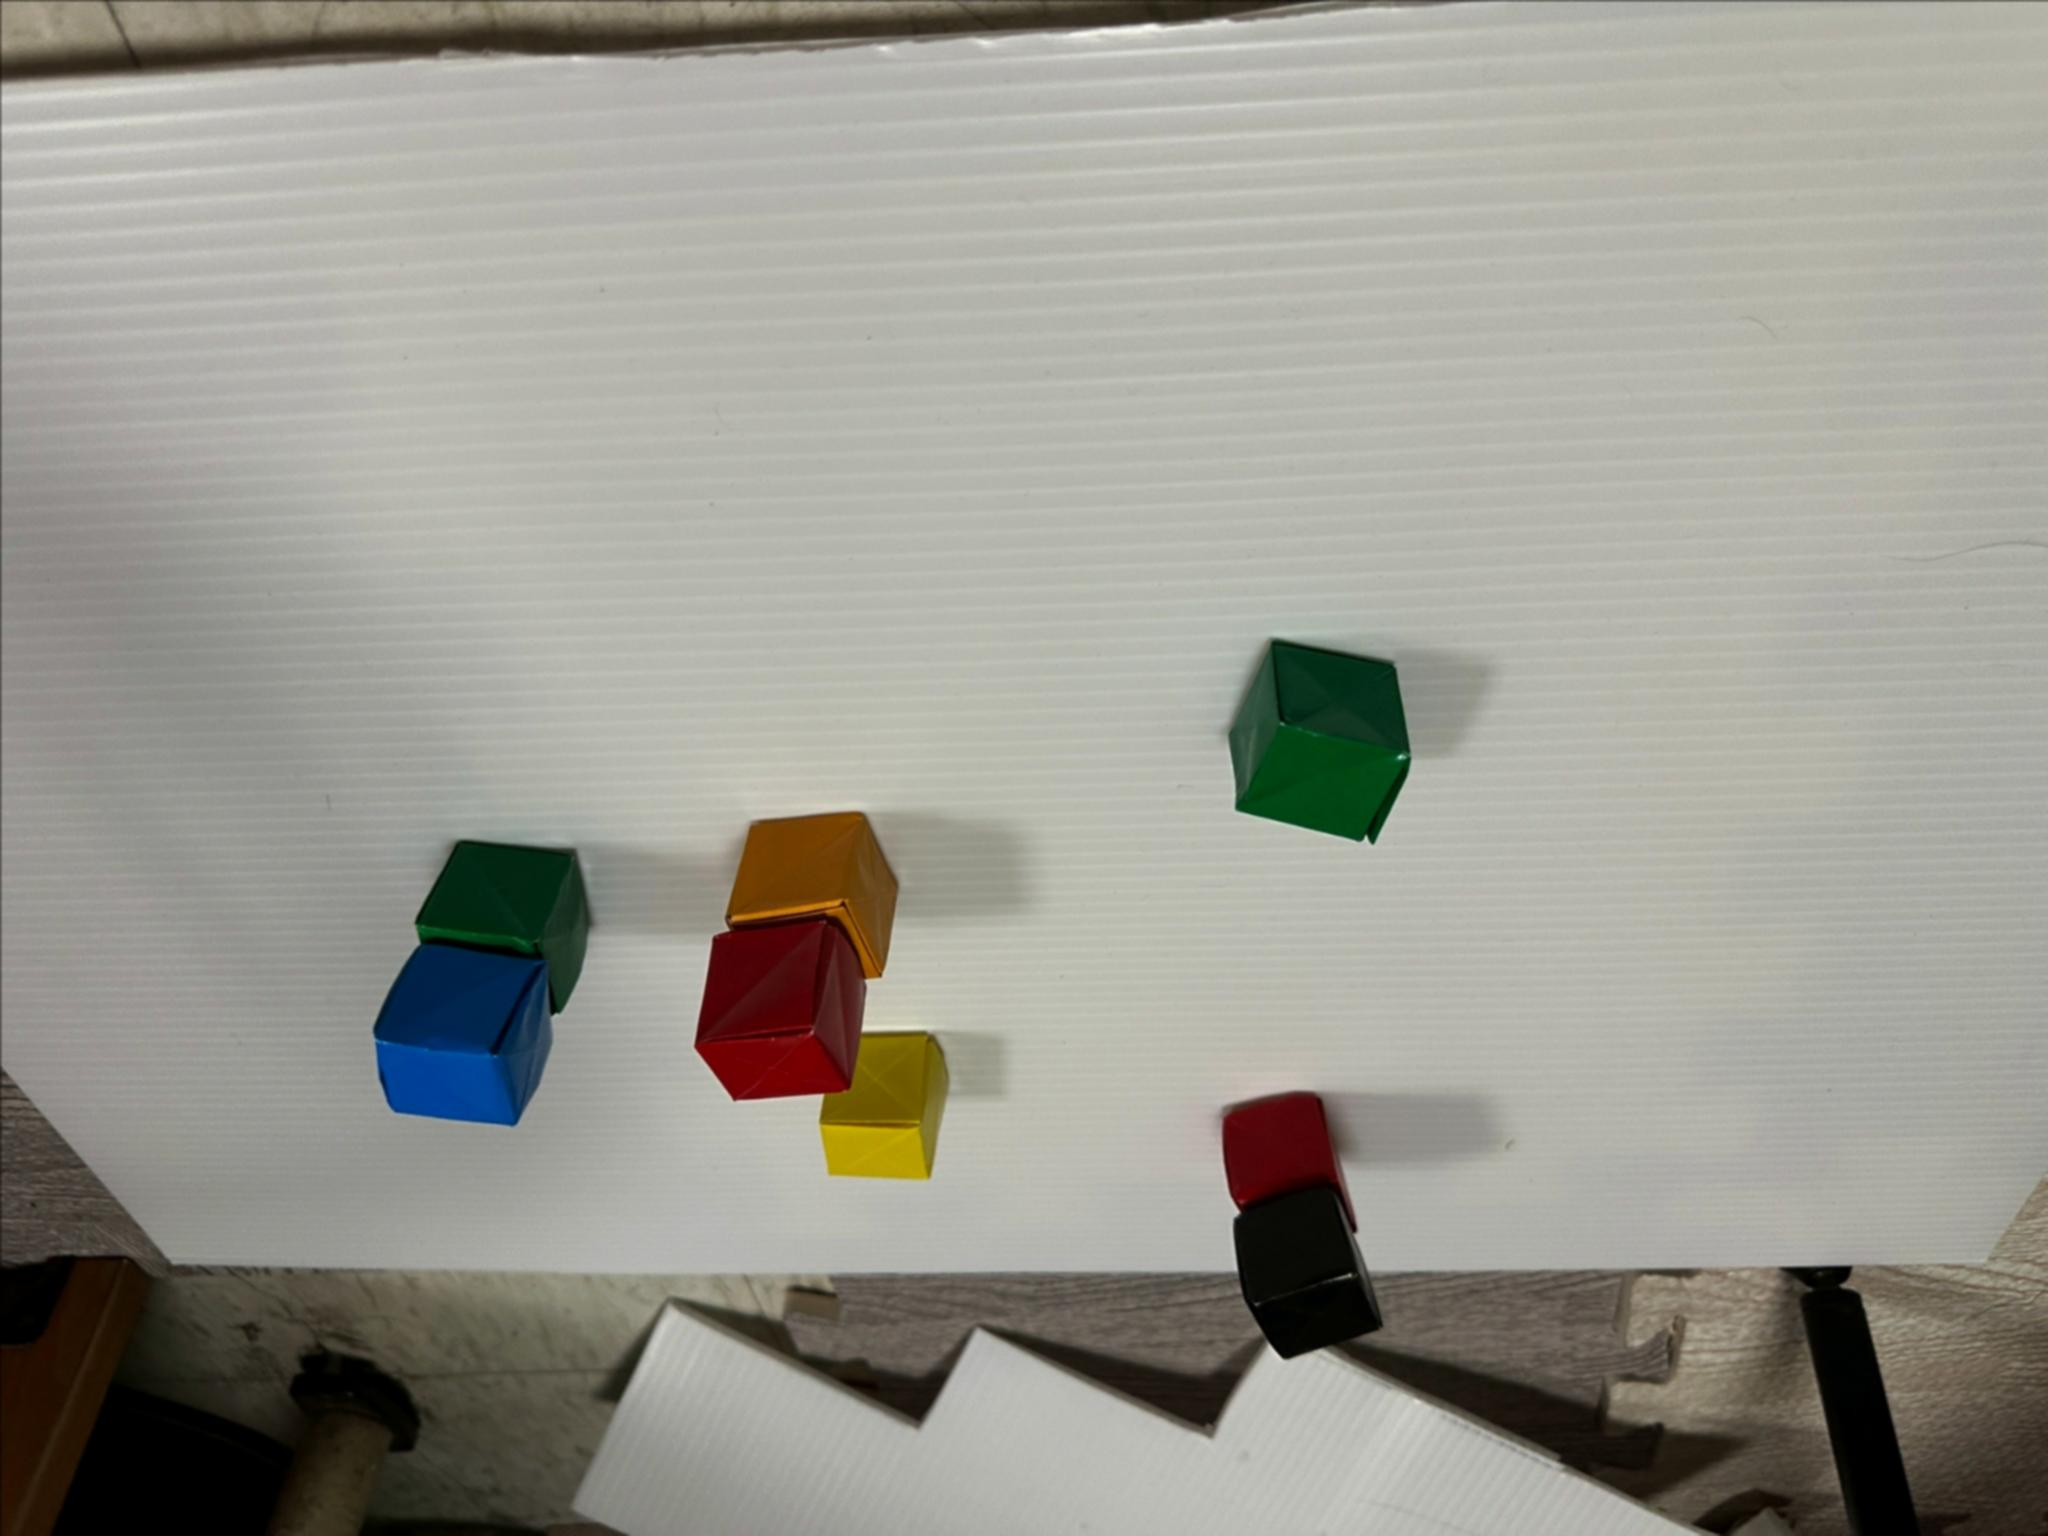cube: (1229, 641, 1408, 842), (374, 942, 550, 1125), (695, 918, 864, 1097), (414, 842, 589, 1012), (726, 813, 897, 978), (1232, 1186, 1379, 1355), (1221, 1094, 1356, 1233), (819, 1033, 947, 1179)
